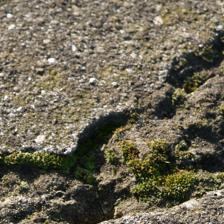Crack: (93, 28, 171, 103), (20, 85, 114, 137)
